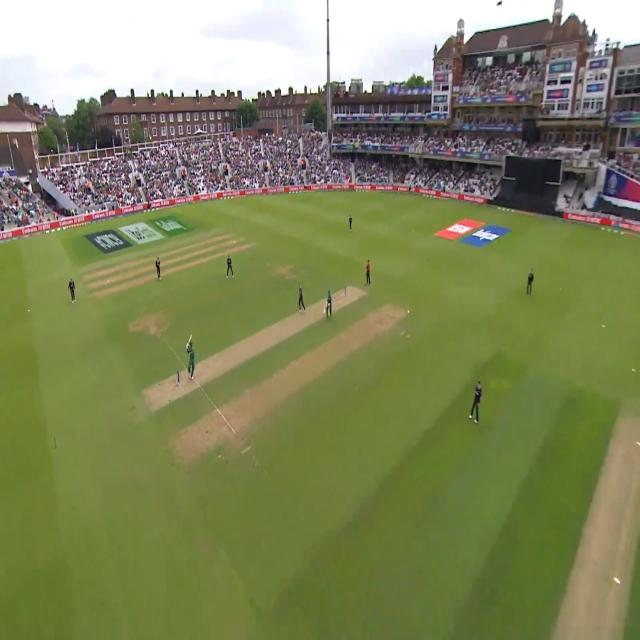ball: (403, 304, 416, 323)
